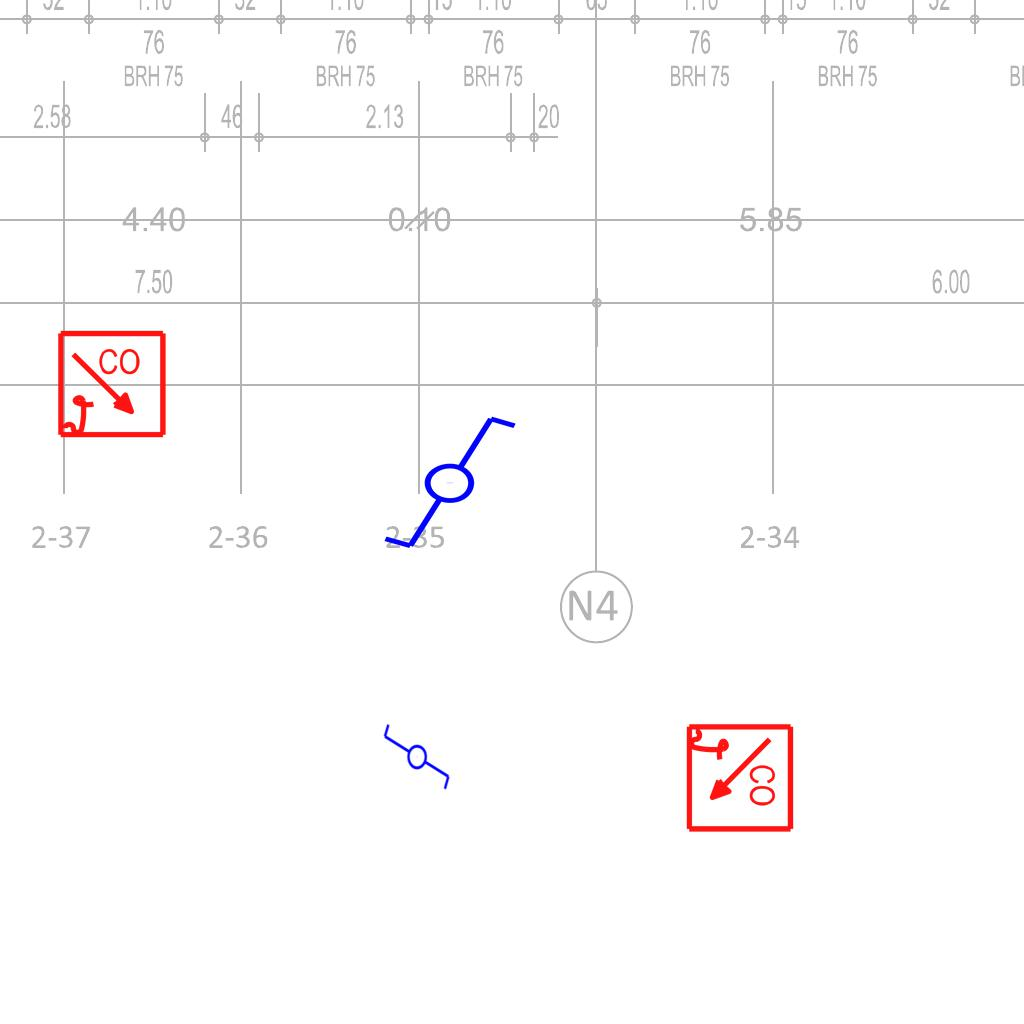ROA_Rauchmelder_optisch_mit_Signalgeber_(Sockelsirene): (56, 329, 169, 442), (682, 722, 795, 835)
Wechselschalter: (363, 409, 520, 553), (380, 722, 452, 800)
